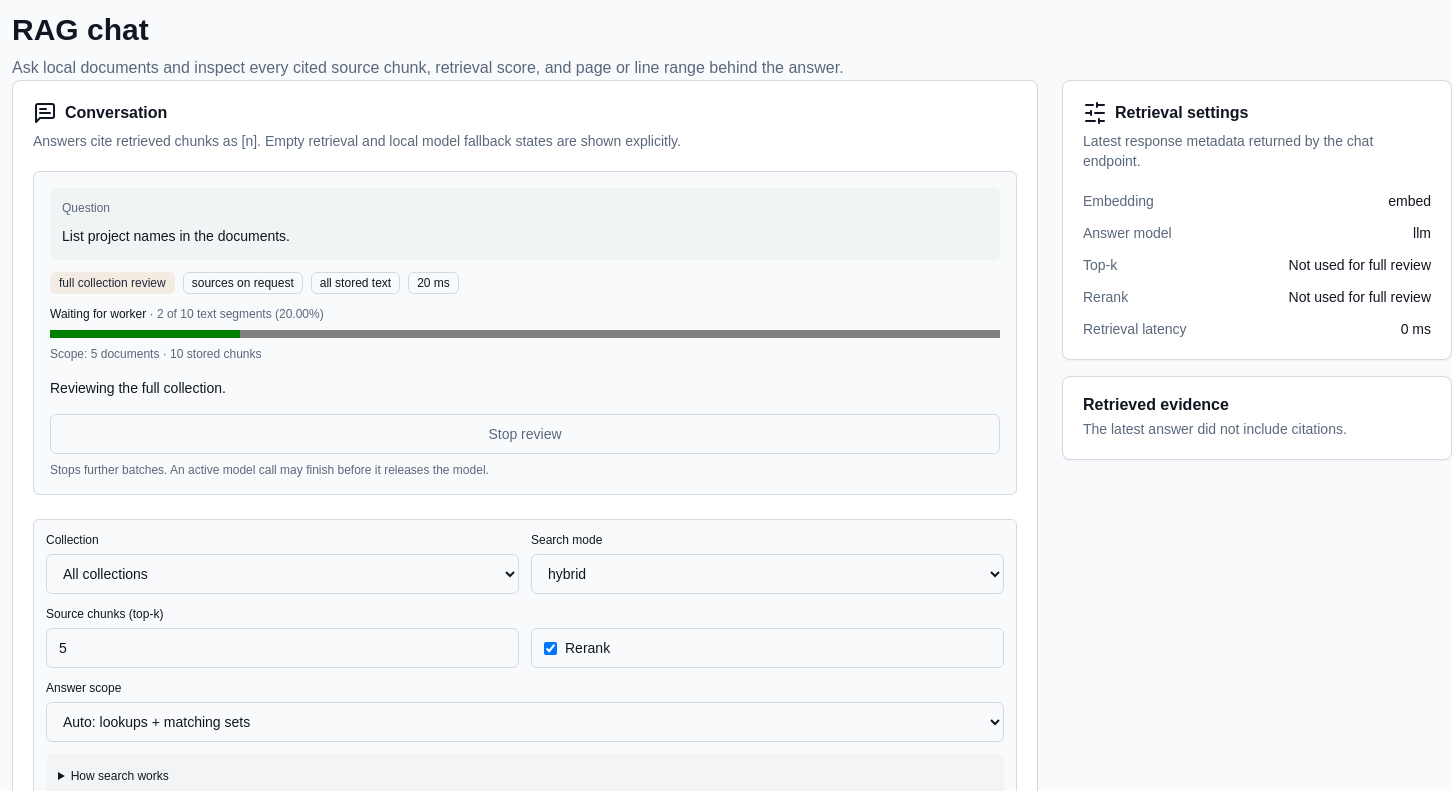
chat performance controls › restores an active review, stops polling when stopped, and offers resume
Click the button "Stop review" at (525, 434), box [50, 414, 1000, 454]
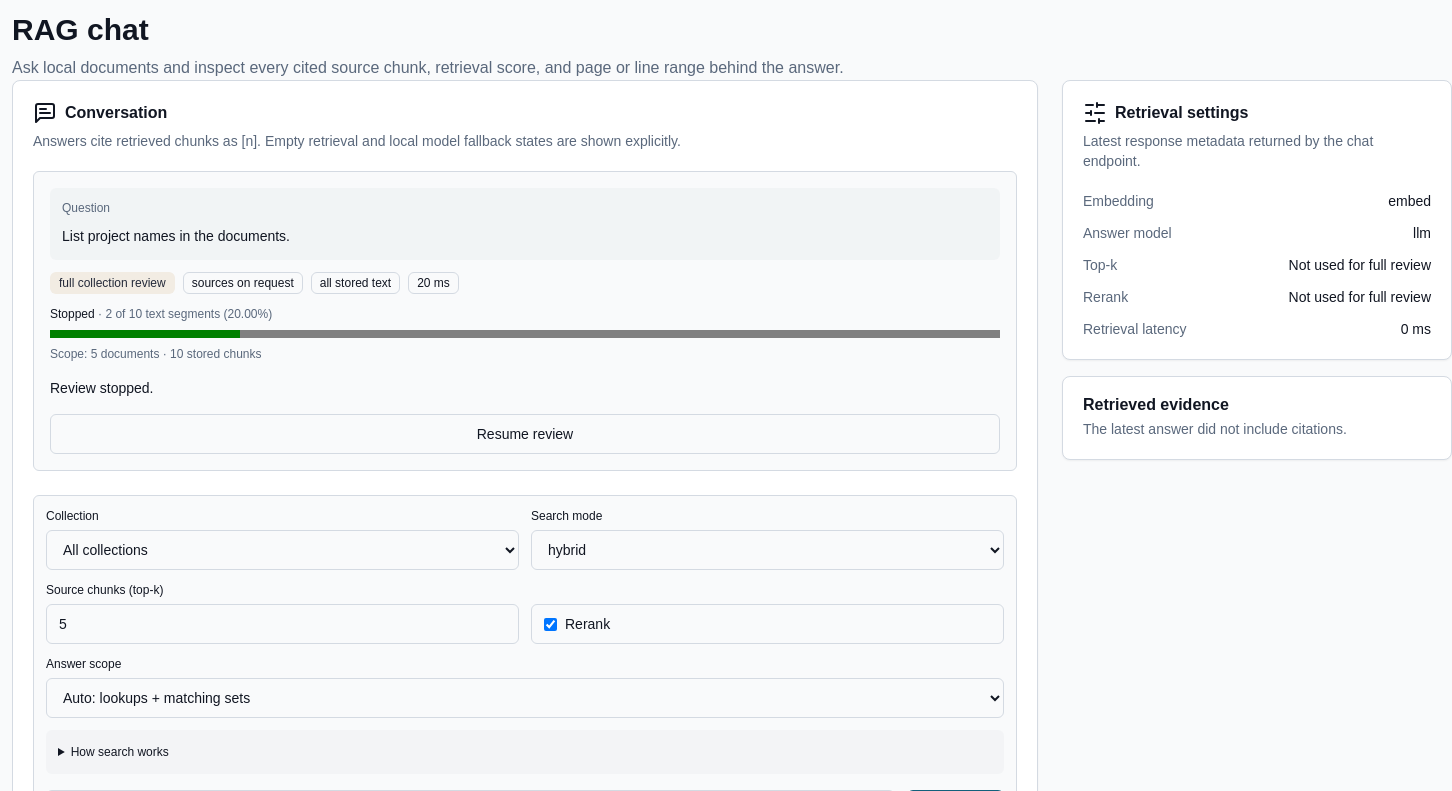
Now the text "Review stopped." is shown, box [50, 380, 154, 396]
Now the button "Stop review" is gone
Click the button "Resume review" at (525, 434), box [50, 414, 1000, 454]
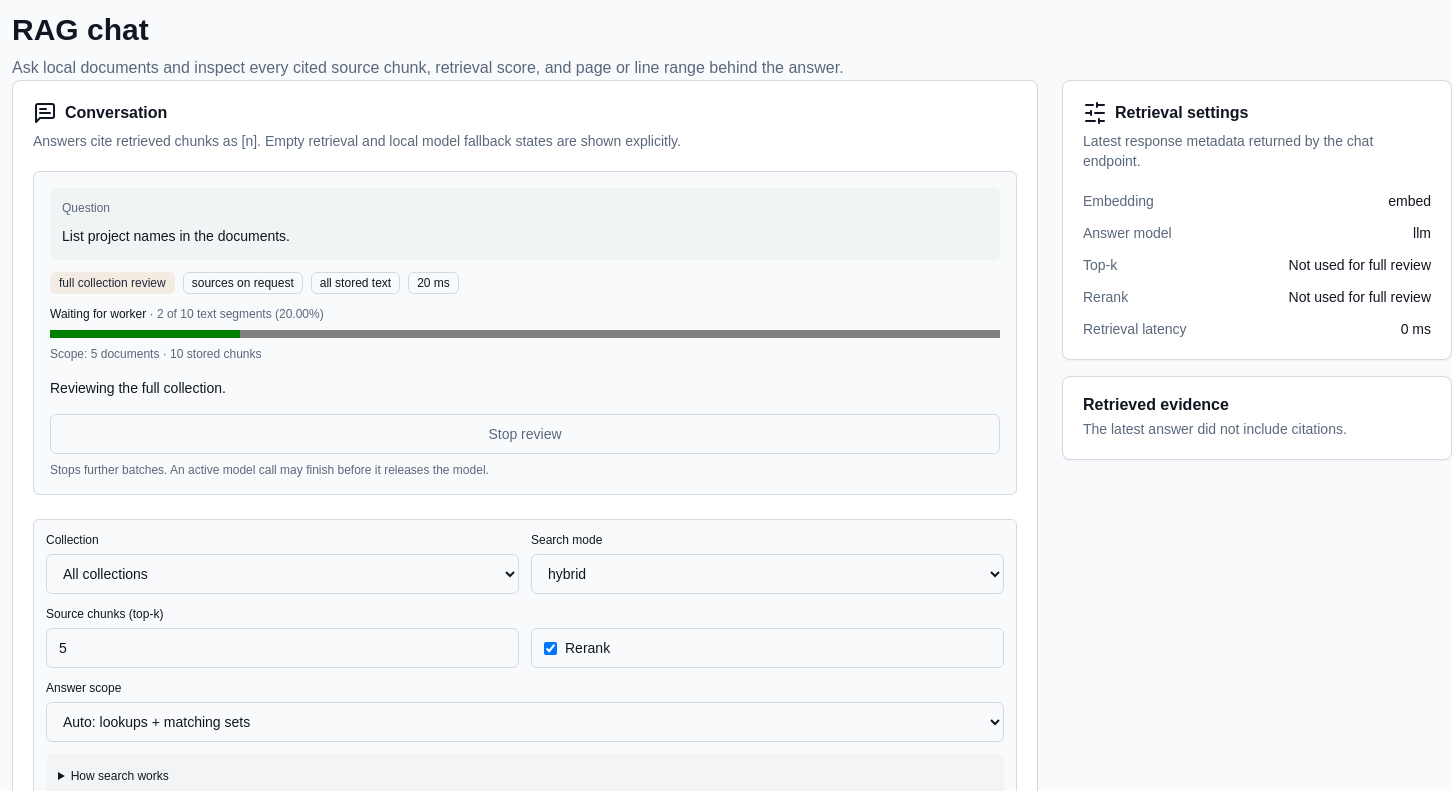
Now the button "Stop review" is shown, box [50, 414, 1000, 454]
